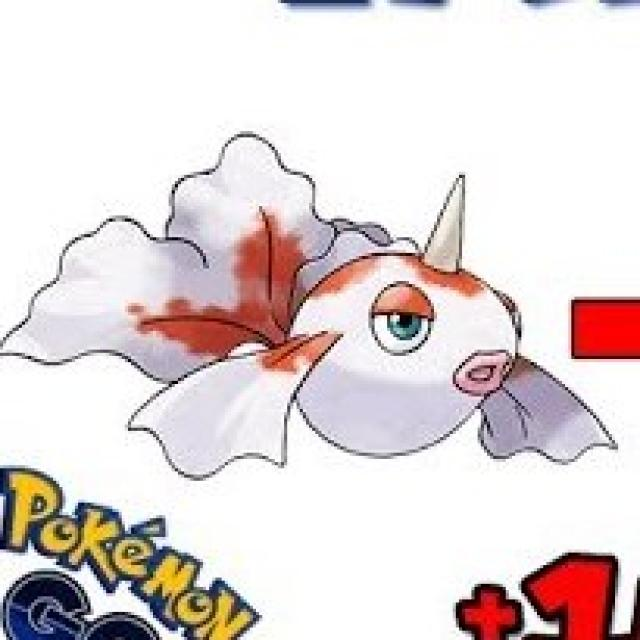Goldeen: (136, 170, 530, 460)
